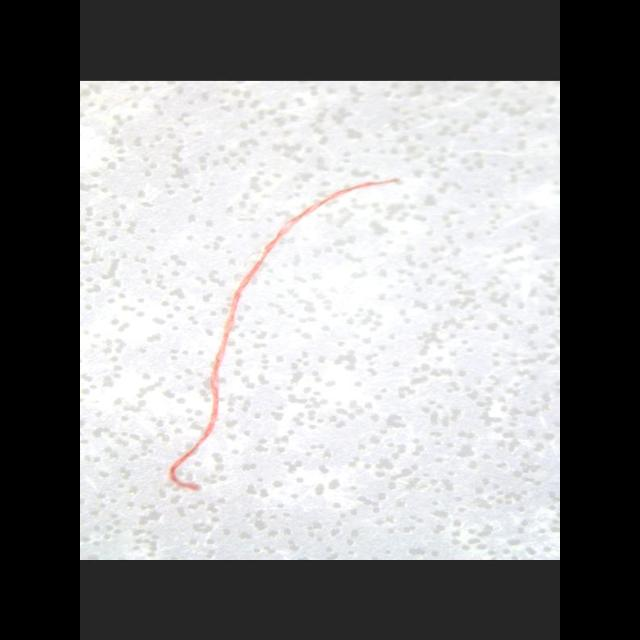Fibre: (166, 175, 400, 490)
